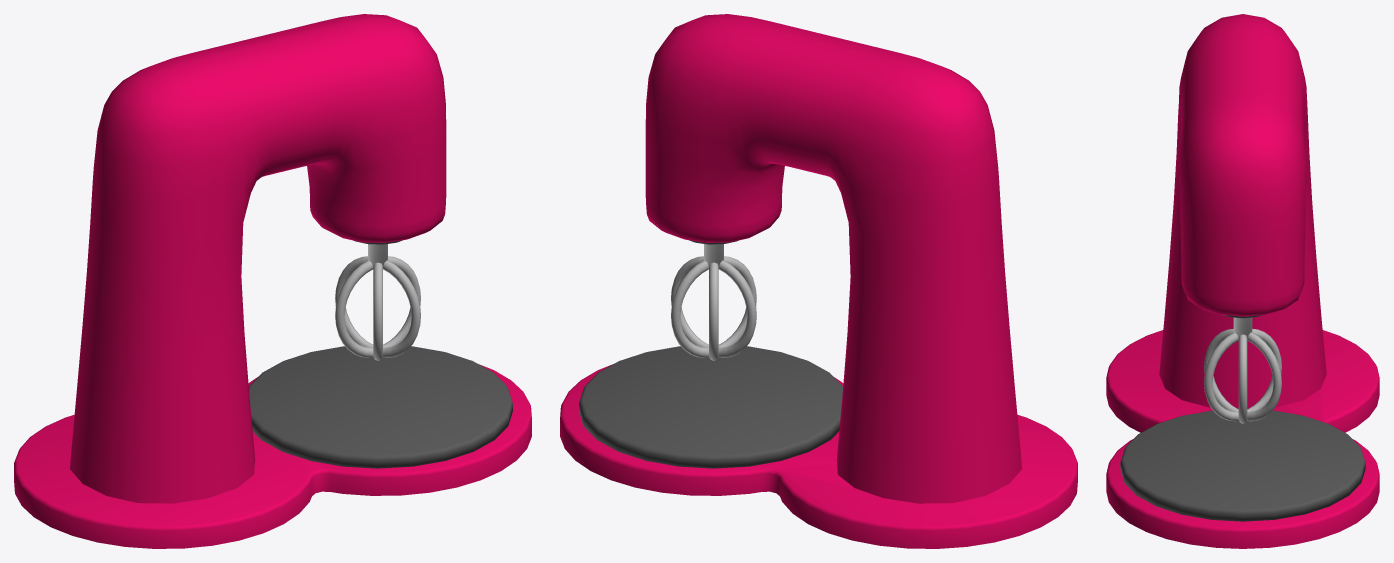
Rendered from SM_Mixer.fbx.
3 renders of one model, left to right at view 1: azimuth 30°, elevation 25°; view 2: azimuth 150°, elevation 25°; view 3: azimuth 270°, elevation 25°, orthographic. The views are drawn at different scales.
Visible parts, largest first — view 1: Mixer; view 2: Mixer; view 3: Mixer.
Part boxes in pixels (x1=…): Mixer: x1=14, y1=14, x2=531, y2=548; Mixer: x1=560, y1=14, x2=1077, y2=548; Mixer: x1=1106, y1=14, x2=1379, y2=548.
Size of the model in its own units: 189 by 158 by 103.
